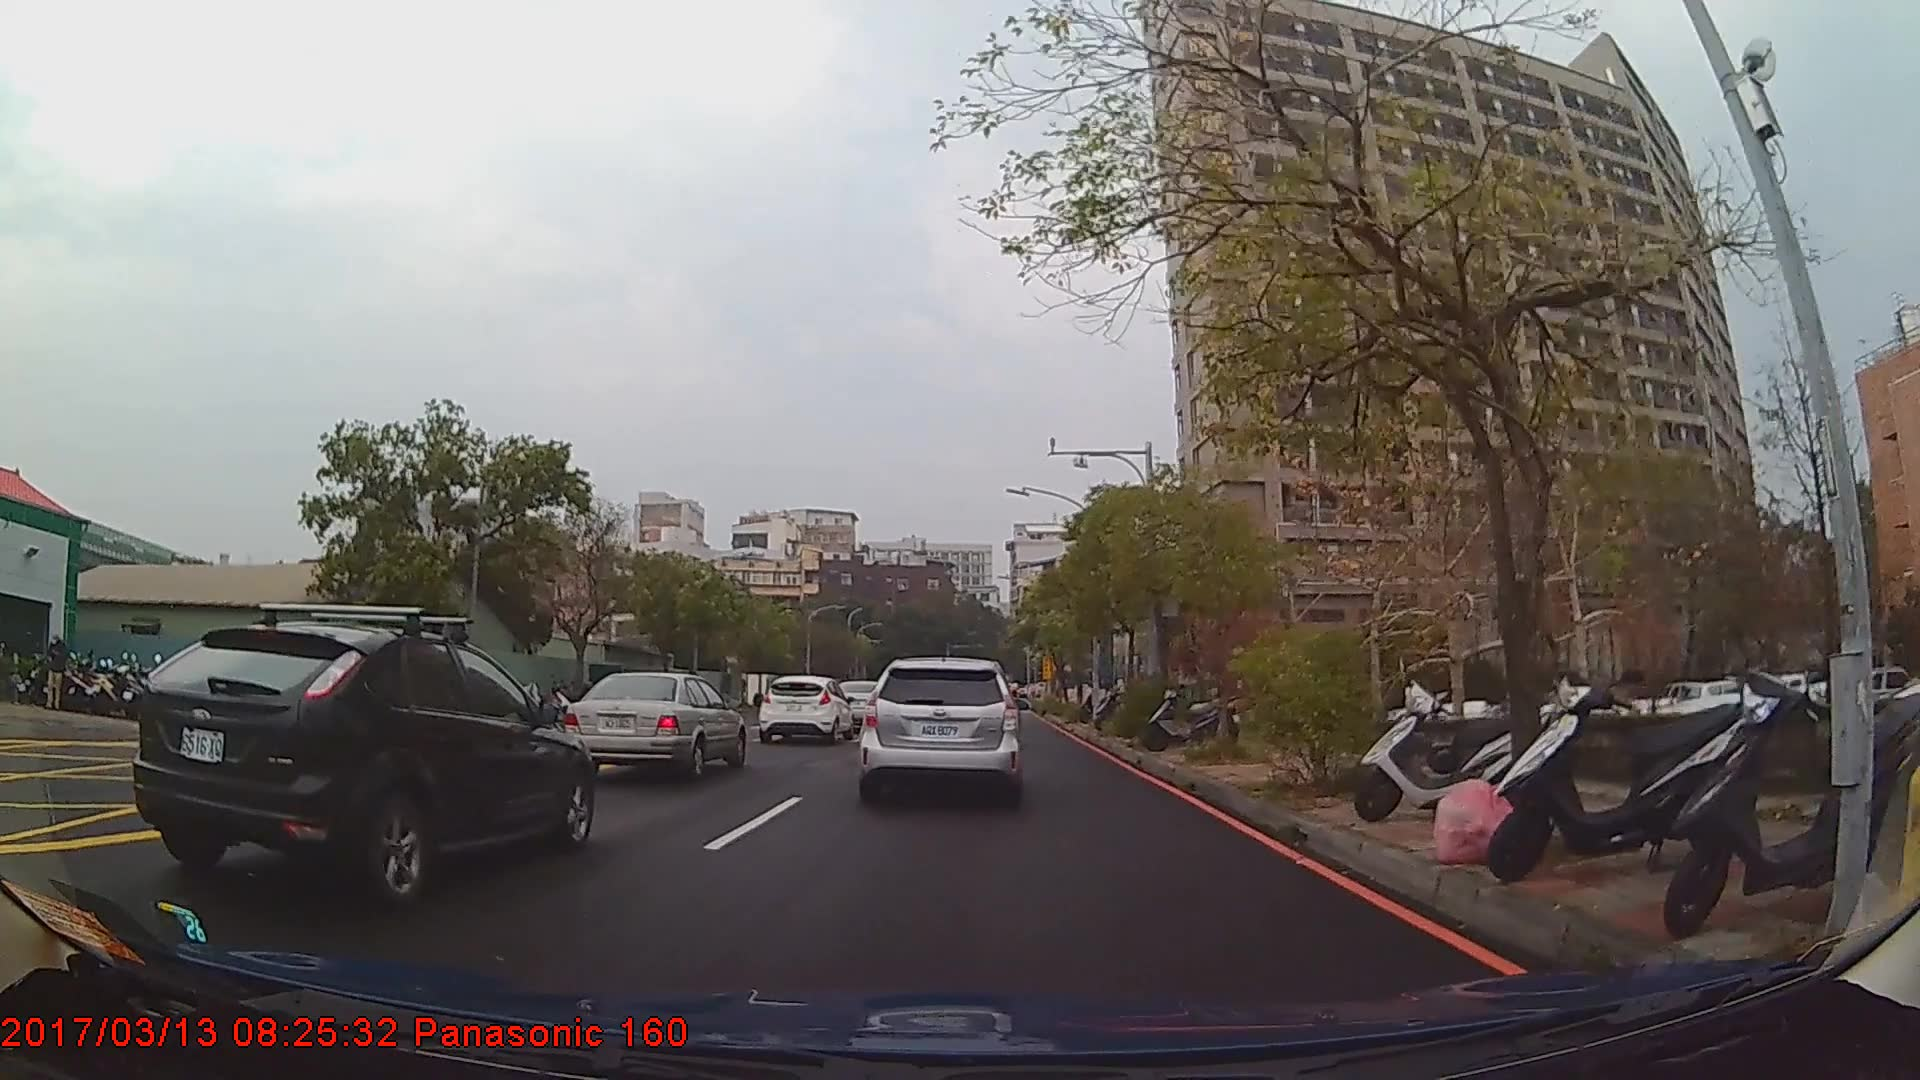pedestrian: (45, 632, 70, 712)
vehicle: (133, 620, 595, 904), (857, 653, 1019, 804), (558, 670, 747, 779), (755, 673, 853, 748)
